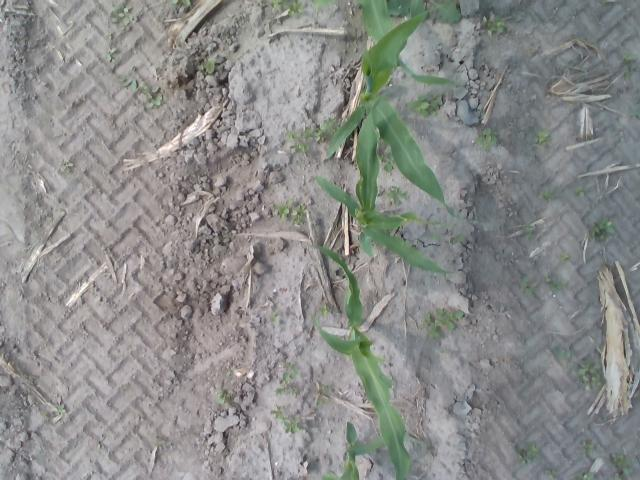Maize: (326, 11, 488, 227), (310, 74, 457, 276), (303, 241, 412, 480), (312, 0, 456, 84), (321, 422, 428, 480)
Weeds: (386, 0, 462, 24), (272, 199, 308, 227), (406, 90, 443, 117), (375, 133, 396, 173), (276, 362, 300, 397), (577, 358, 603, 390), (585, 218, 614, 244), (436, 307, 464, 332), (423, 308, 445, 339), (313, 118, 341, 142), (610, 452, 634, 480), (110, 0, 135, 25), (269, 0, 304, 16), (516, 441, 539, 464), (480, 14, 504, 36), (140, 84, 162, 107), (476, 128, 498, 151), (315, 380, 331, 406), (386, 185, 406, 205), (543, 276, 568, 292), (118, 74, 139, 92), (519, 276, 537, 296), (282, 418, 302, 434), (532, 130, 550, 147), (269, 404, 286, 420), (537, 188, 556, 202), (216, 390, 232, 406), (102, 46, 117, 63), (288, 142, 308, 153), (552, 348, 572, 359), (581, 440, 595, 455), (200, 60, 213, 76), (620, 50, 638, 61), (557, 250, 570, 264), (524, 222, 534, 239), (544, 468, 558, 480), (318, 304, 331, 316), (170, 0, 192, 7), (270, 311, 280, 326), (576, 472, 594, 480), (61, 160, 73, 172), (303, 128, 313, 142), (426, 231, 440, 240), (453, 232, 464, 243), (54, 404, 66, 414), (284, 131, 301, 138), (576, 185, 584, 196), (624, 70, 632, 80), (526, 48, 534, 57)
